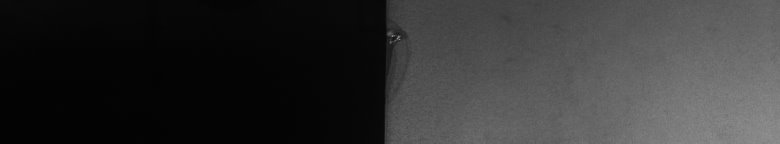hb: (396, 20, 412, 45)
